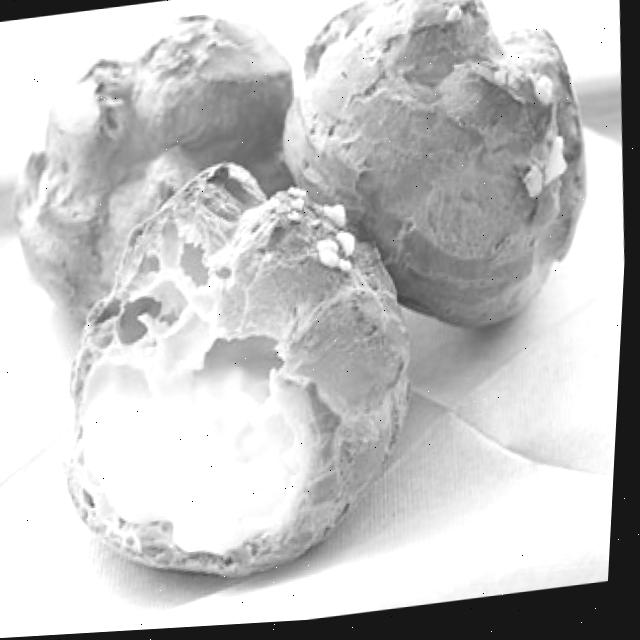炸货点心: (0, 0, 631, 628)
蛋糕甜品: (0, 0, 631, 628)
